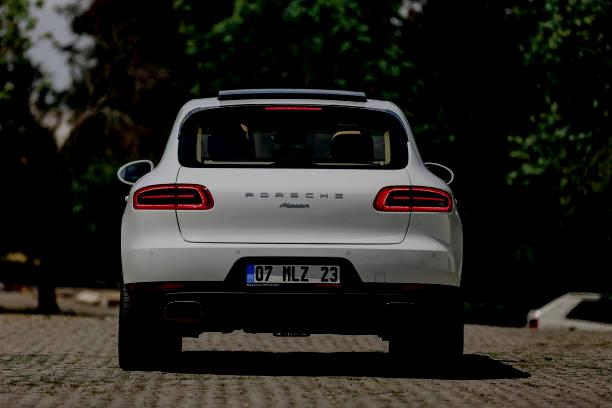porsche: (235, 185, 347, 206)
